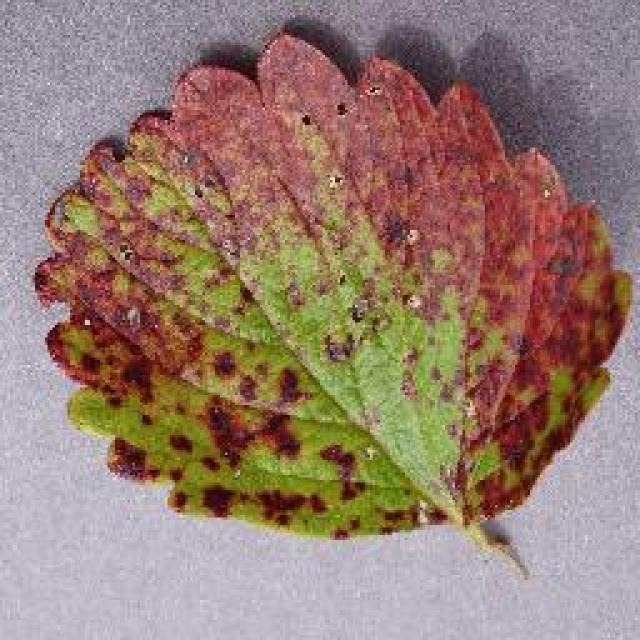Strawberry leaf scorch: (102, 102, 570, 530)
